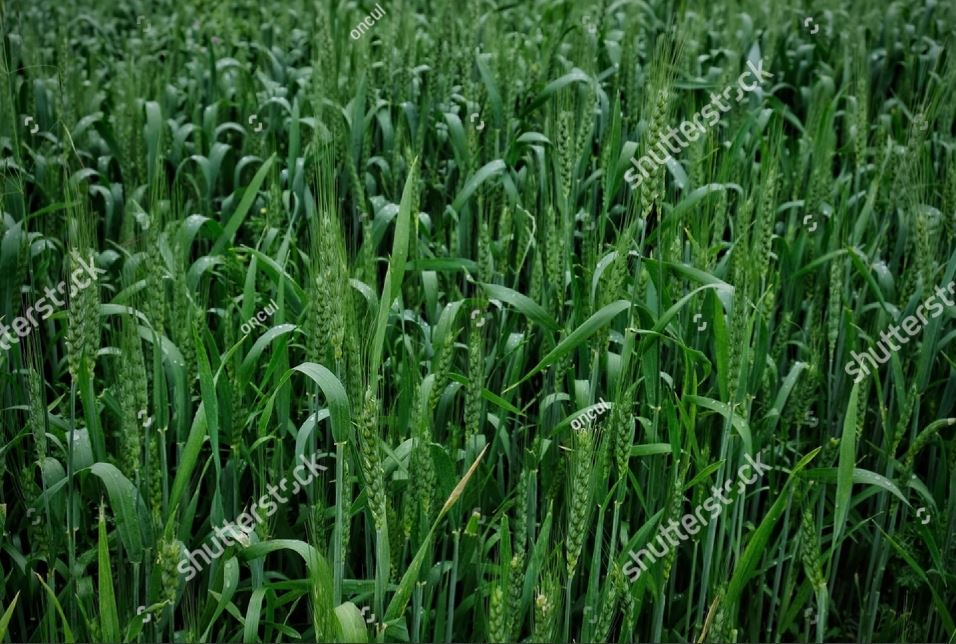Wheat: (28, 183, 808, 608)
